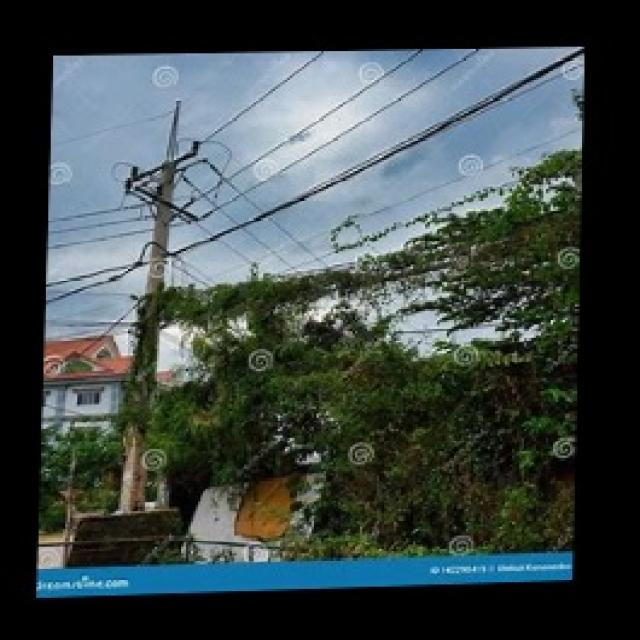critical vegetation: (136, 240, 564, 388)
